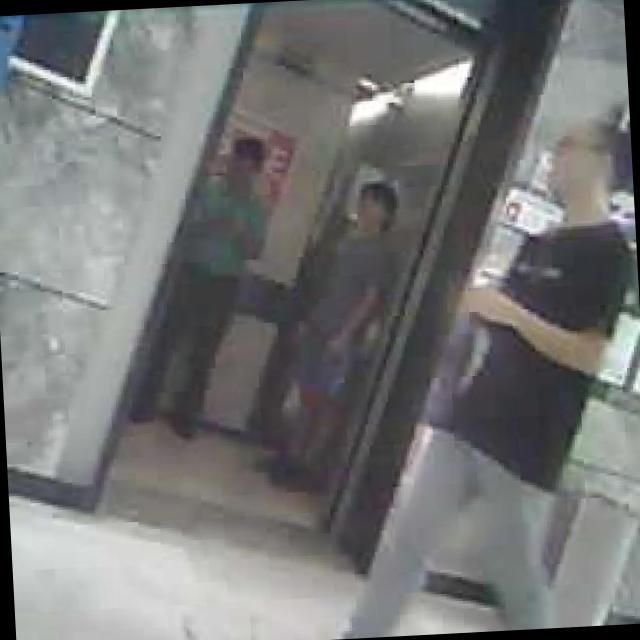person: (307, 116, 640, 639), (110, 134, 284, 438), (256, 175, 412, 492)
